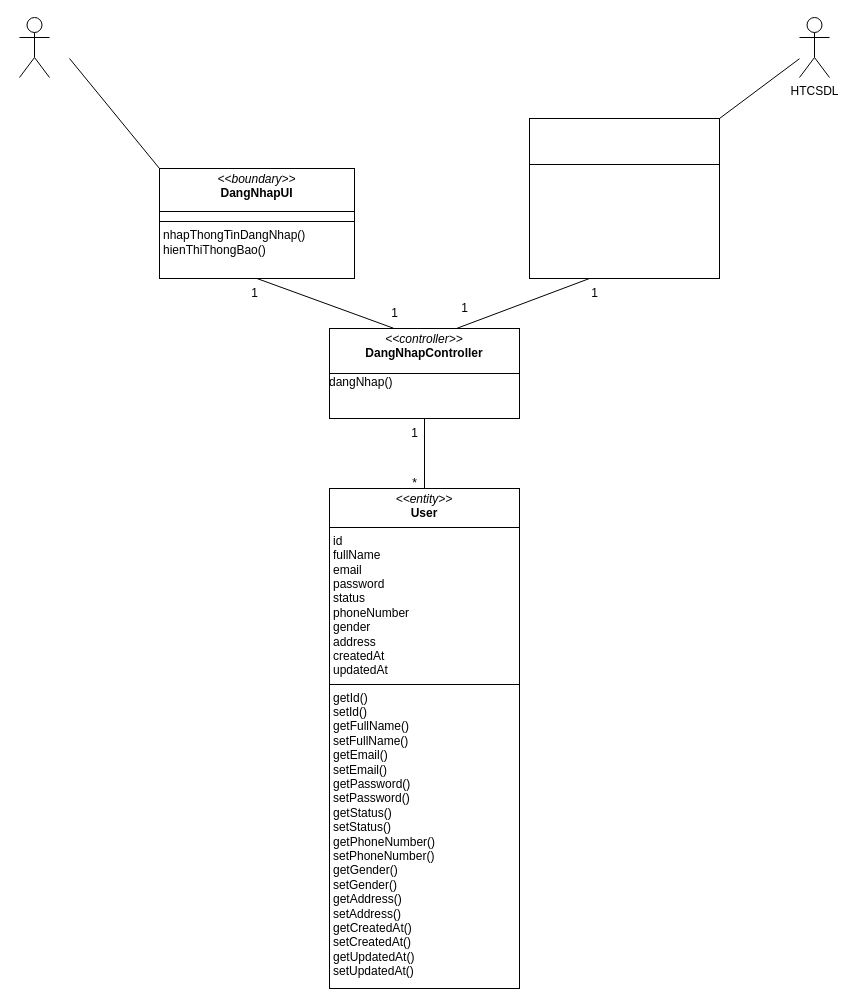
Some shapes in this 856 by 1006 pixel diagram are drawn without their labels. Here are the shapes that lost their labels. From the top down, the centre of each, then its label:
(34,47): Khach
(624,198): <<boundary>> ICSDL dangNhap()
